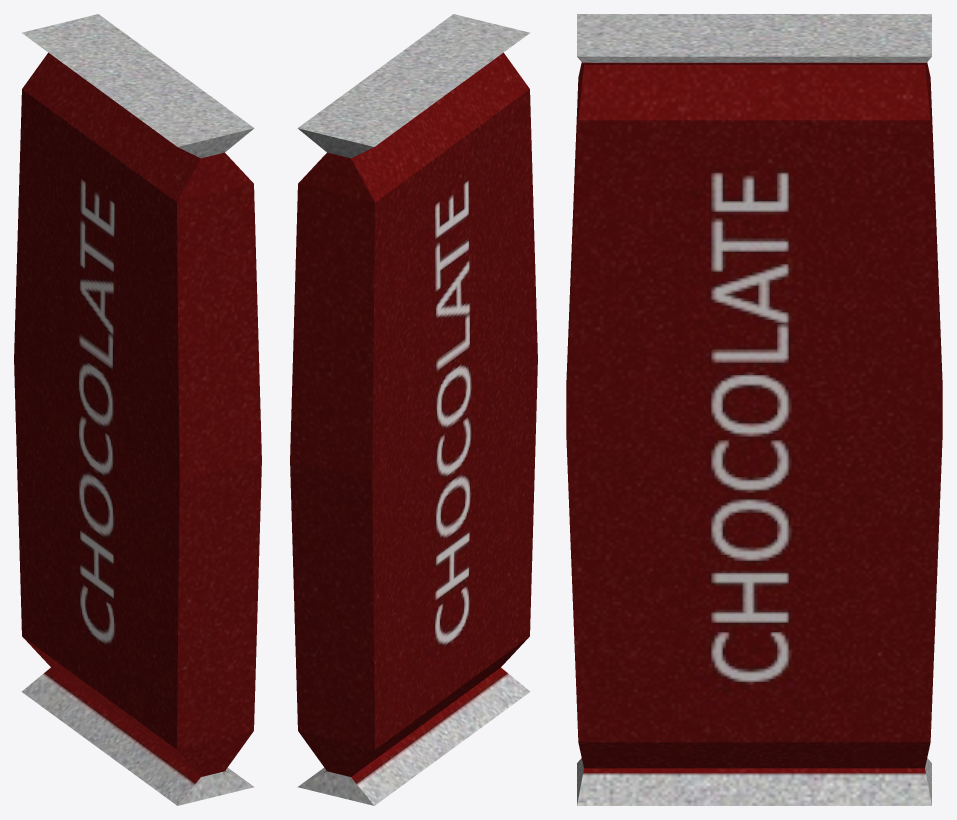
File: chocolate.obj
3 views of the same model, side by side, from view 1: azimuth 30°, elevation 25°; view 2: azimuth 150°, elevation 25°; view 3: azimuth 270°, elevation 25° (orthographic). The views are drawn at different scales.
Visible parts, largest first — view 1: Cube; view 2: Cube; view 3: Cube.
Part boxes in pixels (box(x1,y1,x2,y2)): Cube: box(14, 14, 261, 805); Cube: box(290, 14, 537, 805); Cube: box(566, 14, 942, 805).
Bounding box in the file's own units: 0.2617 × 2 × 0.911.
